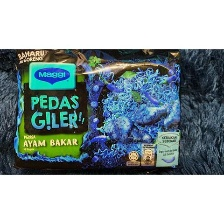snack: (6, 48, 188, 174)
